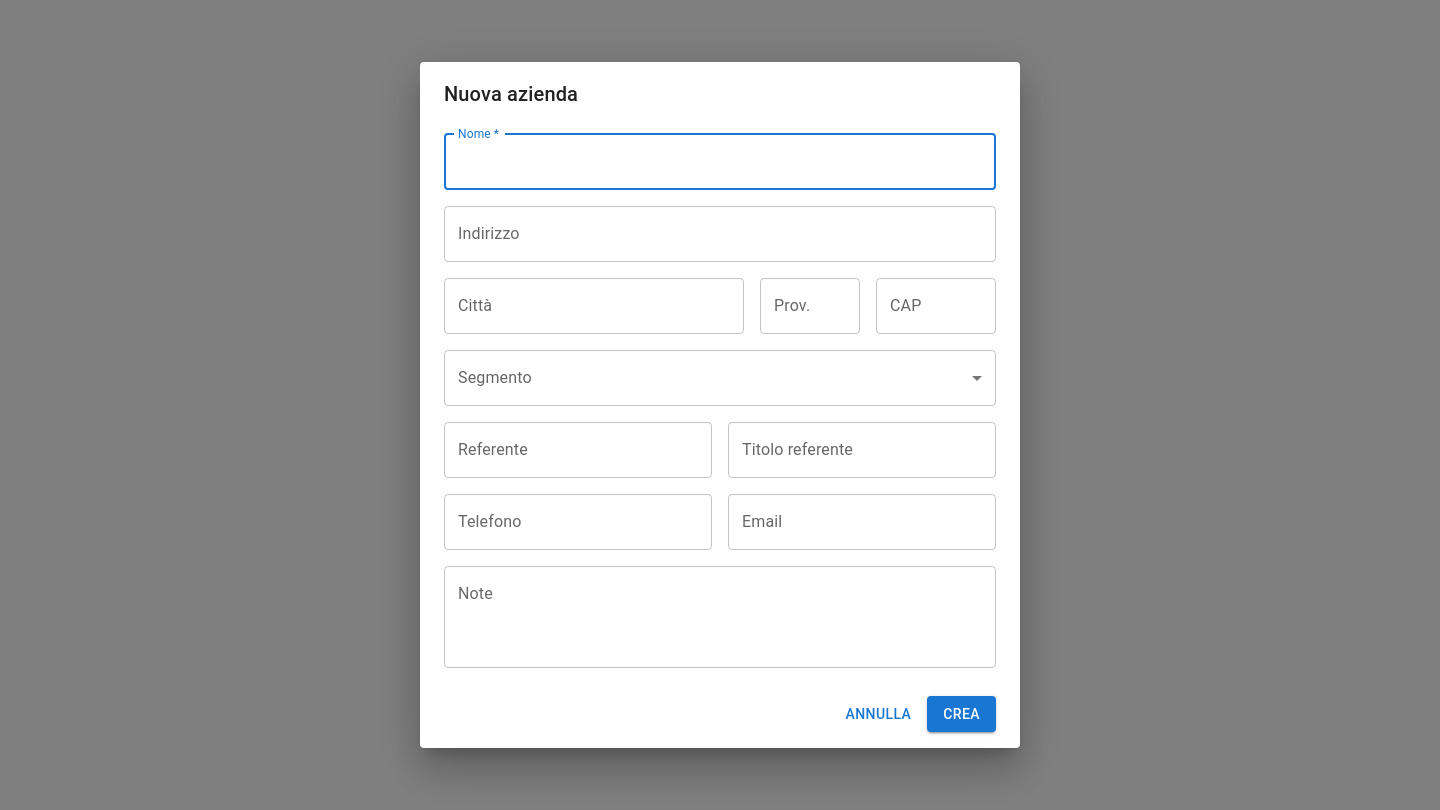
Test case: CompanyForm › shows validation error when name is empty
Click the button "Crea" at (962, 714), box [927, 696, 996, 732]
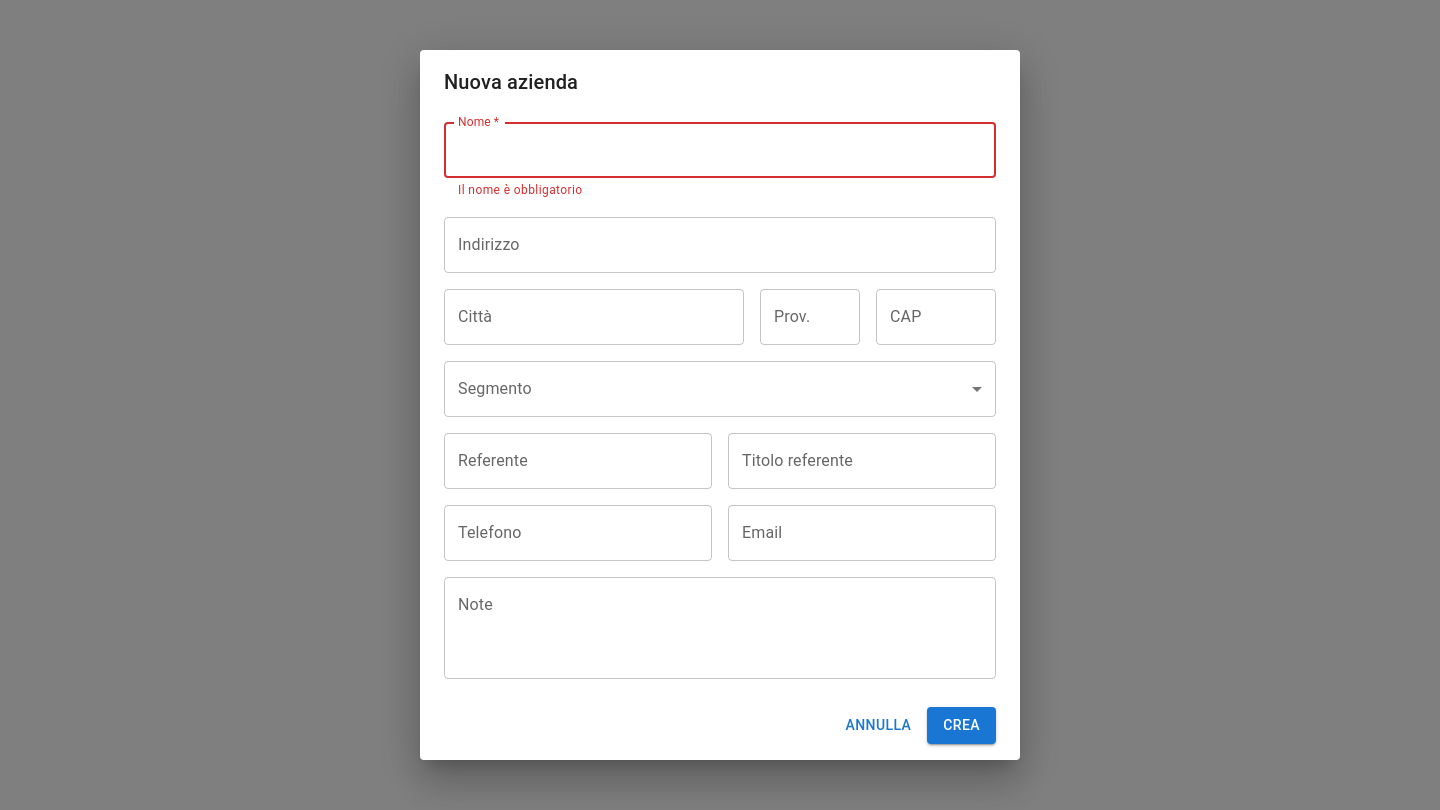
Now the text "Il nome è obbligatorio" is shown, box [458, 183, 582, 197]
